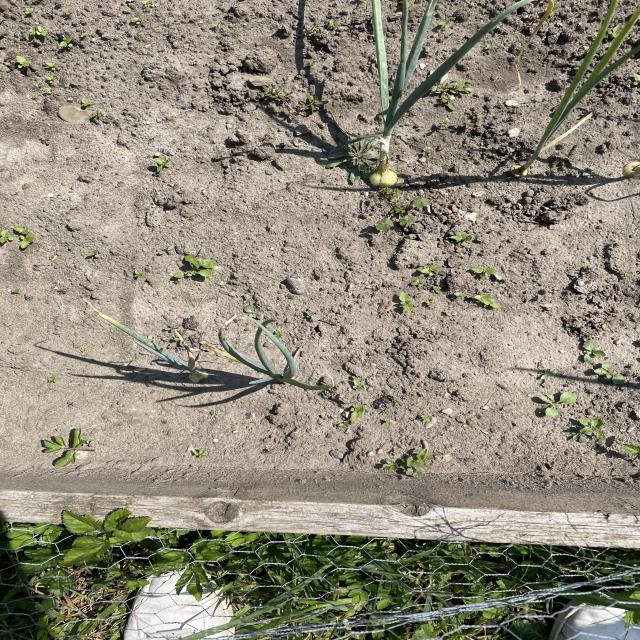Onion: (364, 0, 489, 195), (507, 4, 640, 181), (109, 318, 217, 391), (238, 334, 315, 386)
weed: (534, 394, 640, 454), (397, 262, 505, 316), (366, 192, 445, 241), (36, 426, 92, 472), (371, 443, 437, 482), (0, 220, 48, 255), (176, 252, 219, 285), (136, 151, 181, 175)
